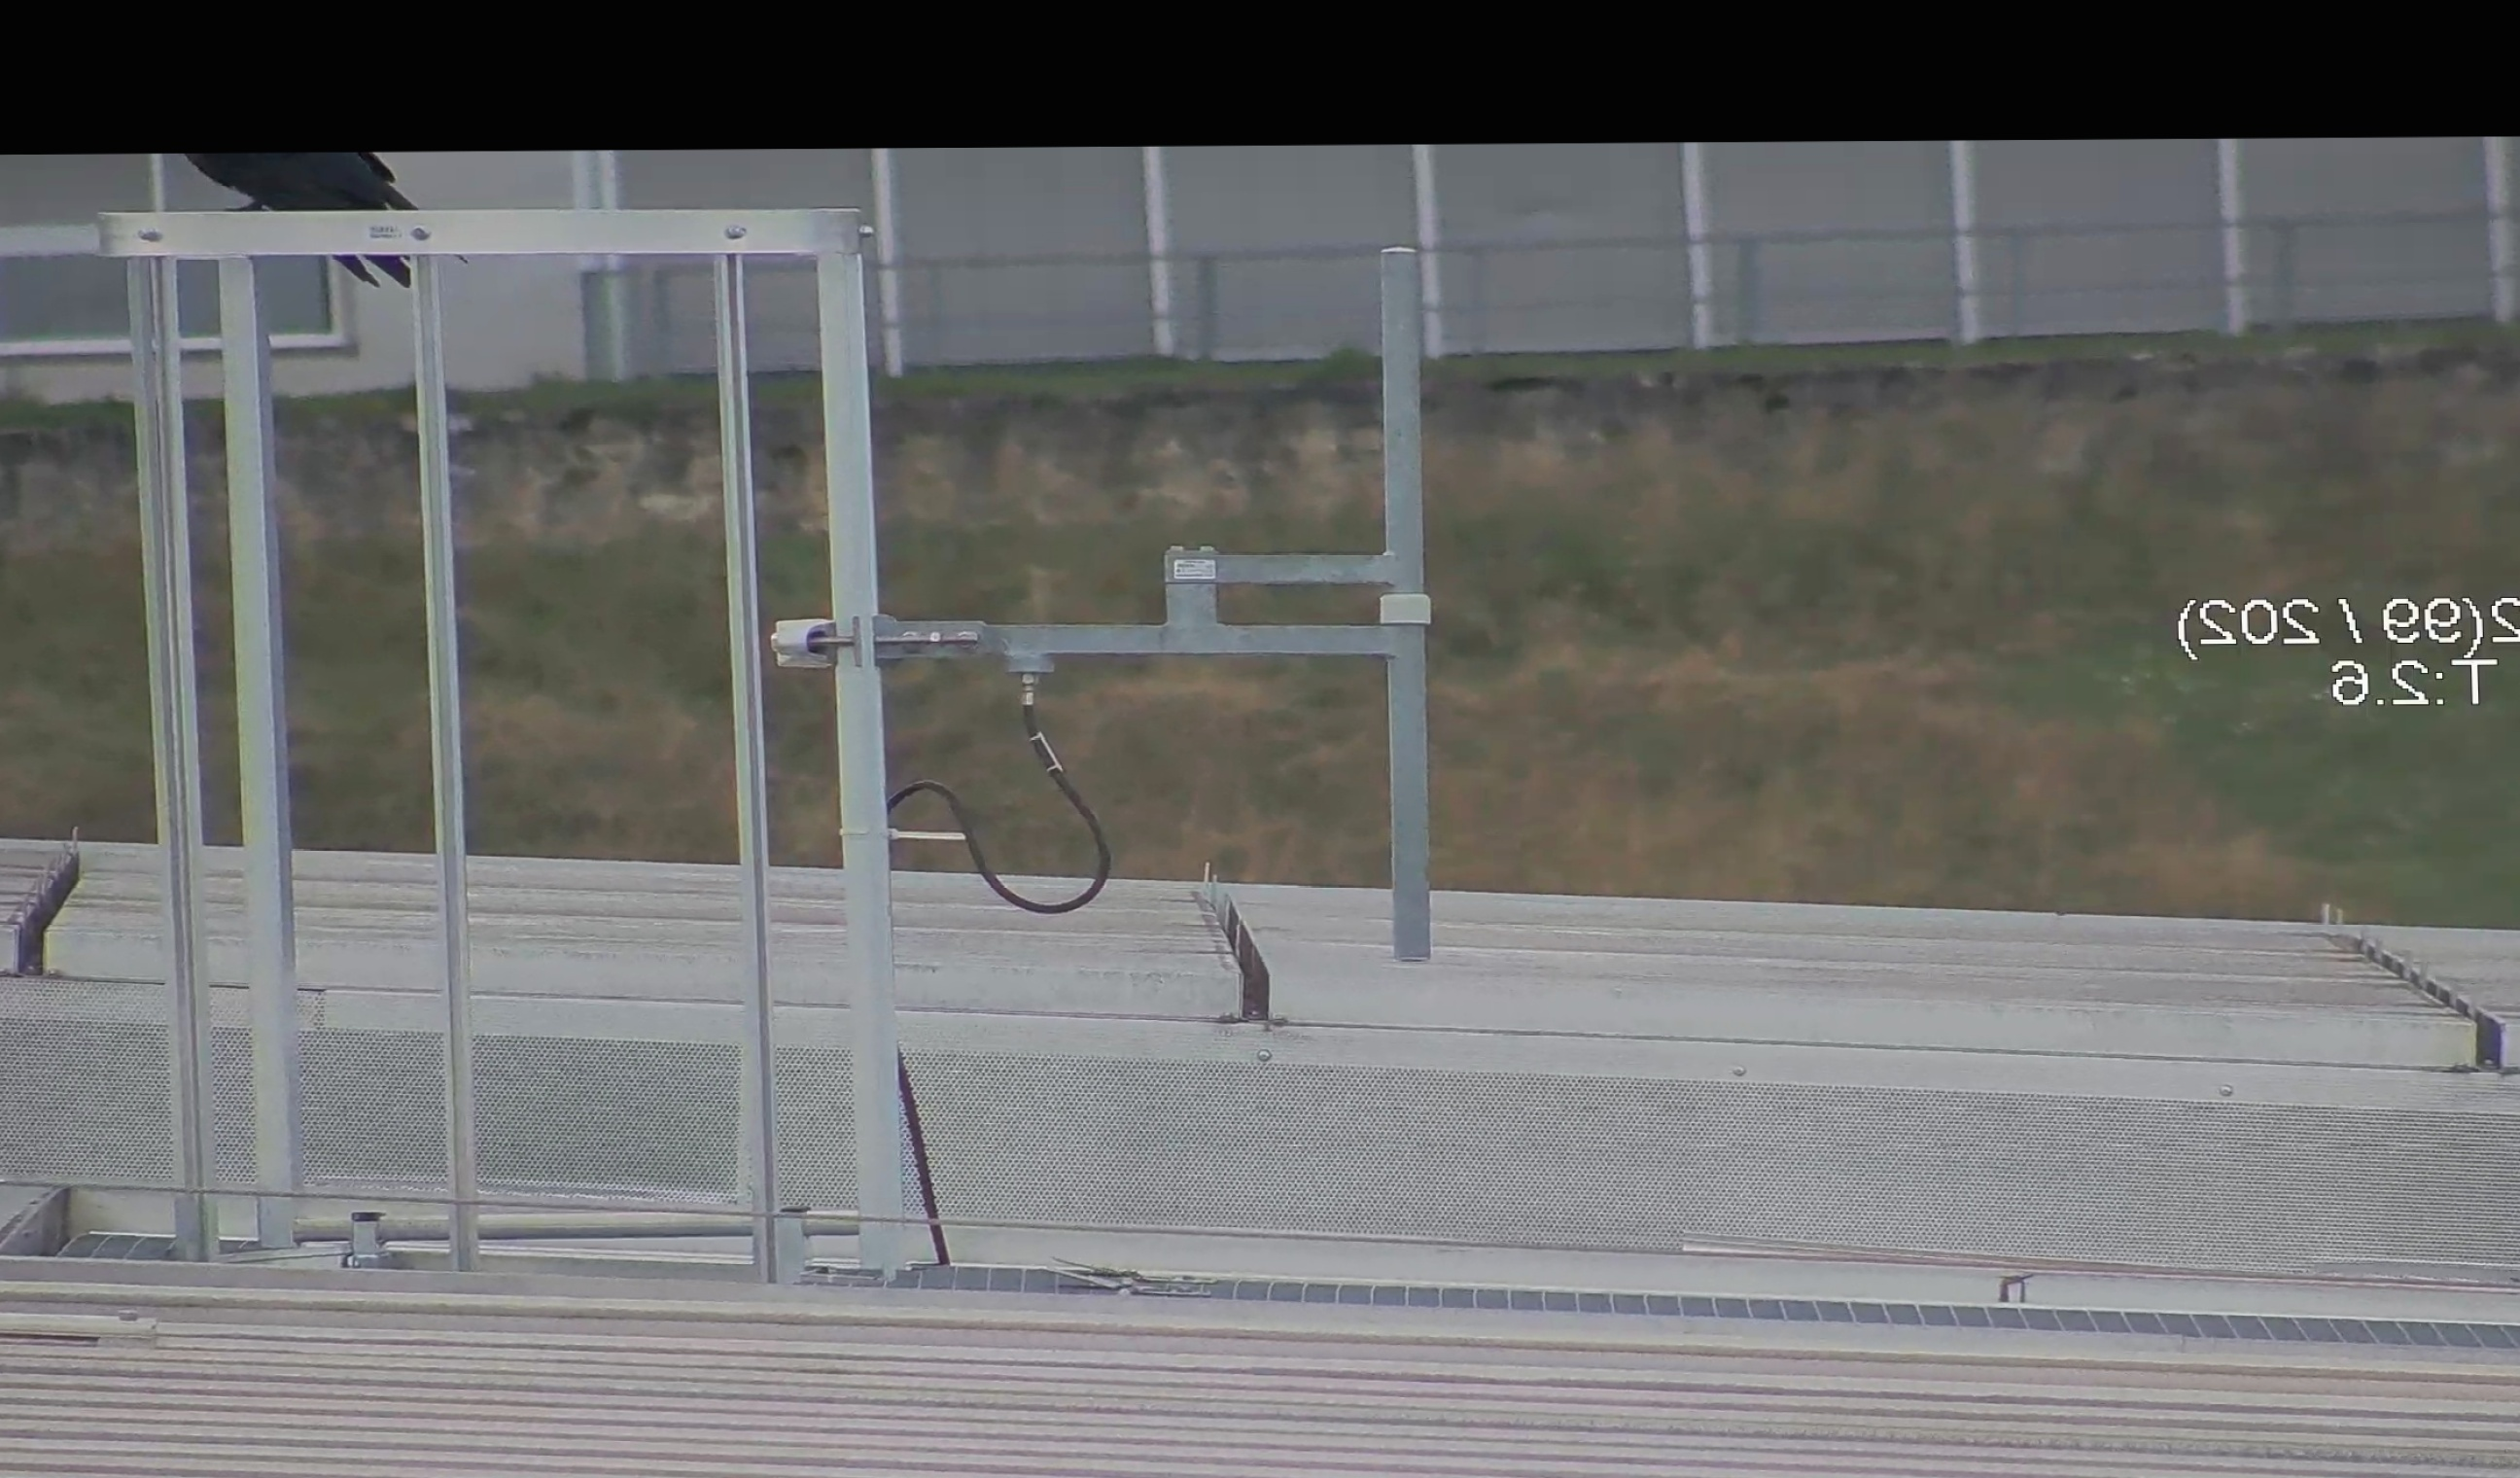Other: (0, 816, 104, 994)
